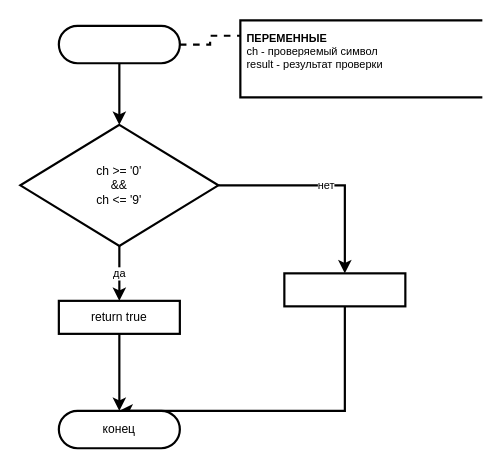
Some shapes in this 502 by 468 pixel diagram are drawn without their labels. The centre of each missing label's shape, as x and y in pixels:
return false: [344,289]
начало: [118,44]
